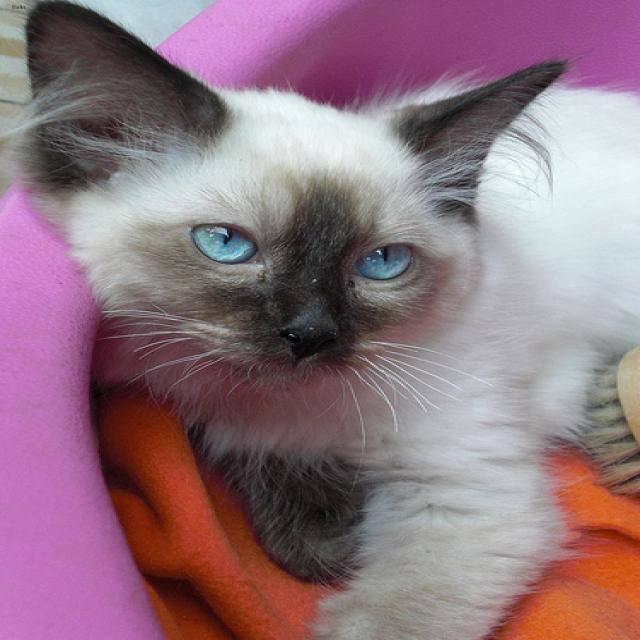Ragdoll: (19, 0, 573, 384)
